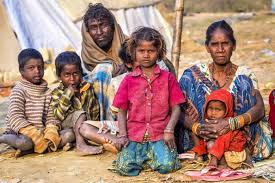no-mask: (80, 5, 117, 56), (204, 20, 238, 74), (128, 23, 164, 73), (54, 51, 83, 93), (16, 50, 45, 89), (201, 91, 232, 122)
